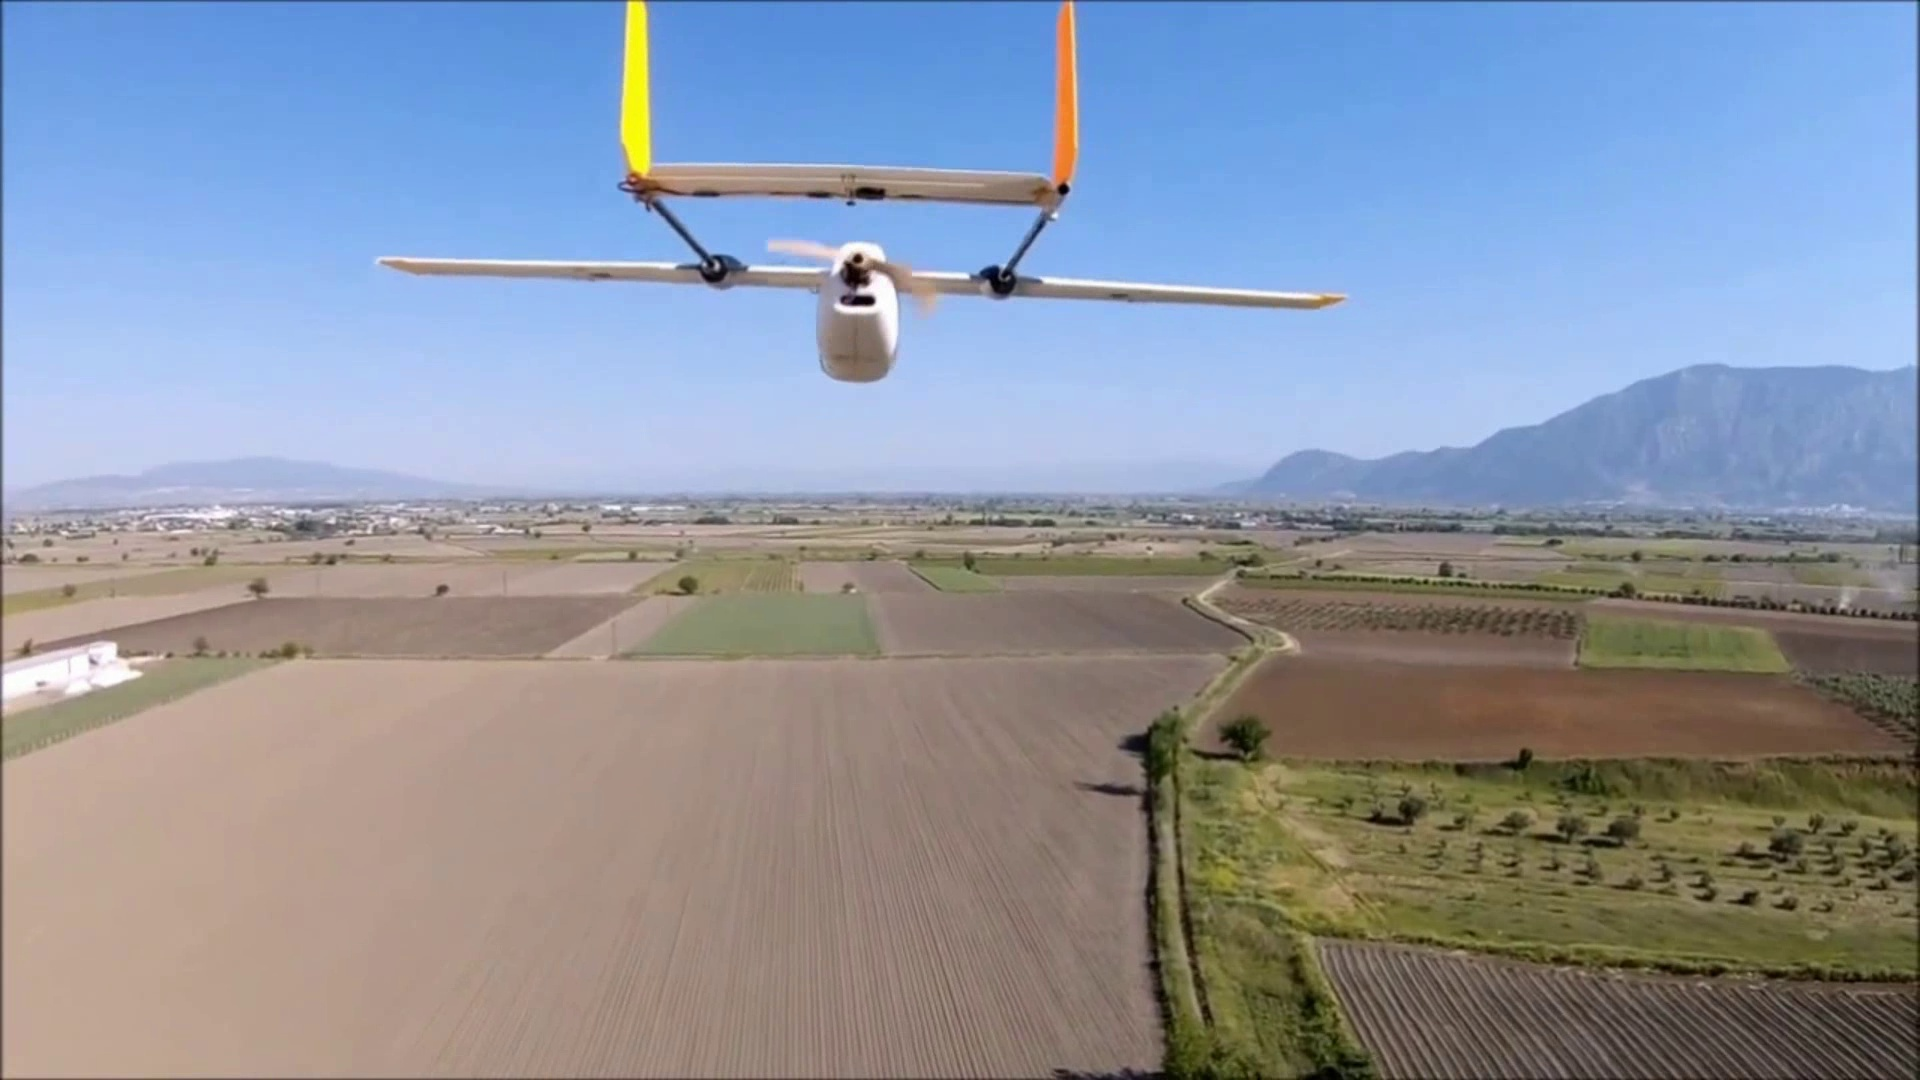airplane: (378, 4, 1346, 376)
